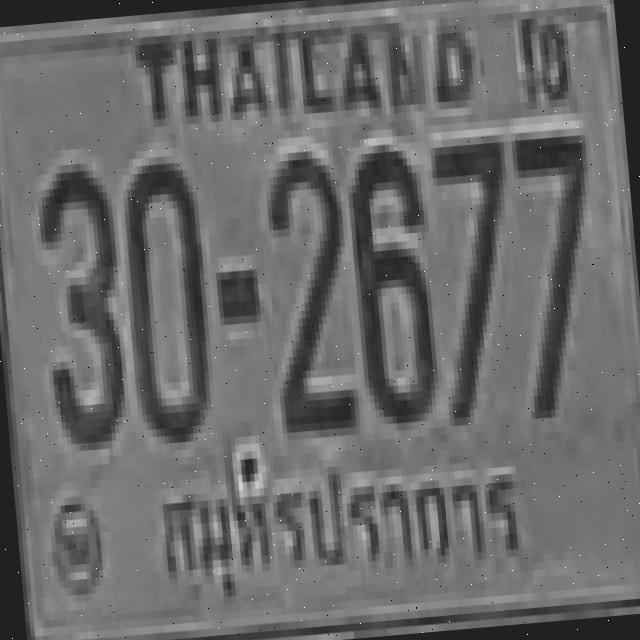0: (116, 154, 213, 438)
2: (258, 145, 356, 429)
3: (30, 154, 128, 445)
6: (344, 142, 437, 418)
7: (506, 128, 604, 412), (425, 130, 522, 414)
SamutPrakan: (146, 429, 542, 616)
